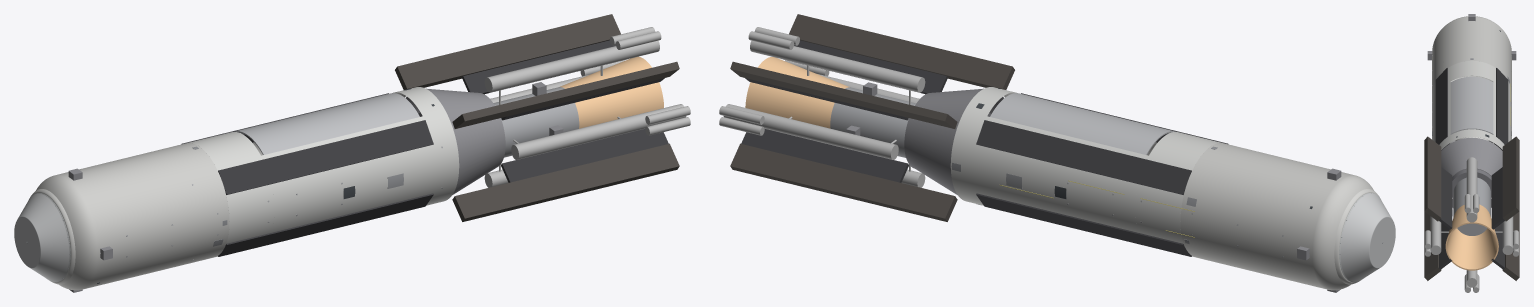
The model's file is wayfarer_I4_in_out_f173094b.glb.
3 renders of one model, left to right at view 1: azimuth 30°, elevation 25°; view 2: azimuth 150°, elevation 25°; view 3: azimuth 270°, elevation 25°, orthographic. The views are drawn at different scales.
Visible parts, largest first — view 1: Exterior, crown closed/hull_armor, Exterior, crown closed/hull_skin, Exterior, crown closed/hotfin, Exterior, crown closed/radiator, Exterior, crown closed/metric, Exterior, crown closed/door, Exterior, crown closed/thrust_cone, Exterior, crown closed/crown_tambour, Exterior, crown closed/nozzle, Exterior, crown closed/reactor, Exterior, crown closed/crown_brow, Exterior, crown closed/rcs; view 2: Exterior, crown closed/hull_armor, Exterior, crown closed/hotfin, Exterior, crown closed/hull_skin, Exterior, crown closed/radiator, Exterior, crown closed/metric, Exterior, crown closed/door, Exterior, crown closed/thrust_cone, Exterior, crown closed/crown_tambour, Exterior, crown closed/nozzle, Exterior, crown closed/reactor, Exterior, crown closed/crown_brow, Exterior, crown closed/rcs; view 3: Exterior, crown closed/radiator, Exterior, crown closed/hotfin, Exterior, crown closed/hull_armor, Exterior, crown closed/door, Exterior, crown closed/nozzle, Exterior, crown closed/metric, Exterior, crown closed/hull_skin, Exterior, crown closed/thrust_cone, Exterior, crown closed/reactor, Exterior, crown closed/shield, Exterior, crown closed/rcs.
Boxes of the visible parts, box(x1,y1,x2,y2) form: Exterior, crown closed/hull_armor: box(36, 143, 229, 290); Exterior, crown closed/hull_skin: box(188, 87, 459, 256); Exterior, crown closed/hotfin: box(395, 14, 679, 221); Exterior, crown closed/radiator: box(181, 40, 668, 256); Exterior, crown closed/metric: box(484, 27, 690, 187); Exterior, crown closed/door: box(233, 93, 419, 154); Exterior, crown closed/thrust_cone: box(406, 88, 505, 194); Exterior, crown closed/crown_tambour: box(14, 193, 70, 282); Exterior, crown closed/nozzle: box(560, 56, 663, 128); Exterior, crown closed/reactor: box(493, 87, 579, 157); Exterior, crown closed/crown_brow: box(29, 189, 75, 284); Exterior, crown closed/rcs: box(68, 82, 563, 292); Exterior, crown closed/hull_armor: box(1180, 143, 1373, 290); Exterior, crown closed/hotfin: box(730, 14, 1014, 221); Exterior, crown closed/hull_skin: box(950, 87, 1221, 256); Exterior, crown closed/radiator: box(741, 40, 1228, 256); Exterior, crown closed/metric: box(719, 27, 925, 187); Exterior, crown closed/door: box(990, 93, 1176, 154); Exterior, crown closed/thrust_cone: box(904, 88, 1003, 194); Exterior, crown closed/crown_tambour: box(1339, 193, 1395, 282); Exterior, crown closed/nozzle: box(745, 57, 849, 128); Exterior, crown closed/reactor: box(830, 87, 915, 157); Exterior, crown closed/crown_brow: box(1334, 189, 1380, 284); Exterior, crown closed/rcs: box(846, 82, 1341, 292); Exterior, crown closed/radiator: box(1435, 68, 1508, 269); Exterior, crown closed/hotfin: box(1424, 136, 1519, 280); Exterior, crown closed/hull_armor: box(1432, 16, 1511, 93); Exterior, crown closed/door: box(1450, 76, 1493, 134); Exterior, crown closed/nozzle: box(1445, 204, 1498, 270); Exterior, crown closed/metric: box(1425, 157, 1518, 292); Exterior, crown closed/hull_skin: box(1432, 60, 1511, 149); Exterior, crown closed/thrust_cone: box(1441, 137, 1502, 207); Exterior, crown closed/reactor: box(1453, 177, 1490, 235); Exterior, crown closed/shield: box(1452, 169, 1491, 207); Exterior, crown closed/rcs: box(1427, 14, 1516, 215).
Size of the model in its own units: 55.61 by 10.62 by 10.73.
